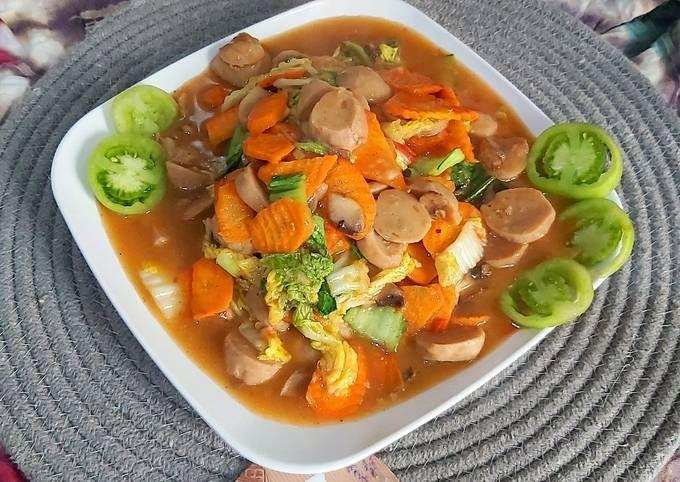buah_sayur_lainnya: (99, 146, 154, 204), (541, 135, 605, 184), (577, 204, 624, 263), (527, 277, 577, 315)
buah_sayur_vitA: (192, 80, 477, 367)
